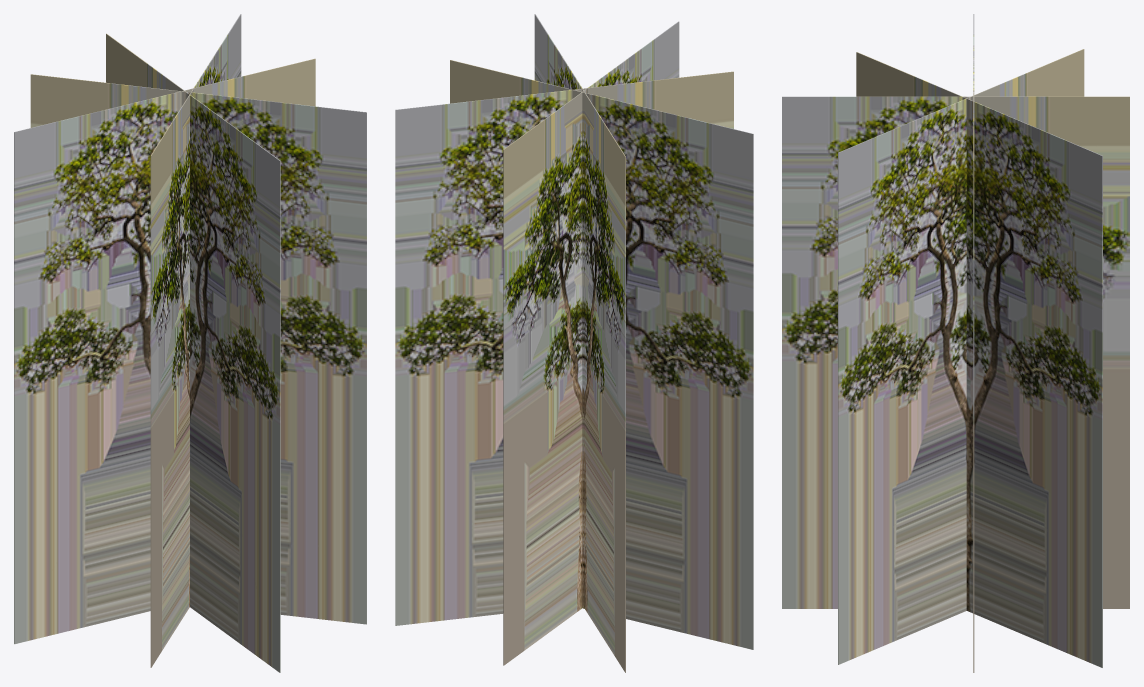
File: Tree4.fbx
3 views of the same model, side by side, from view 1: azimuth 30°, elevation 25°; view 2: azimuth 150°, elevation 25°; view 3: azimuth 270°, elevation 25° (orthographic).
Visible parts, largest first — view 1: tree5; view 2: tree5; view 3: tree5.
Boxes of the visible parts, <box> form: tree5: <box>14,14,366,672</box>; tree5: <box>395,14,753,672</box>; tree5: <box>782,14,1129,672</box>.
Bounding box in the file's own units: 432 × 702 × 432.
